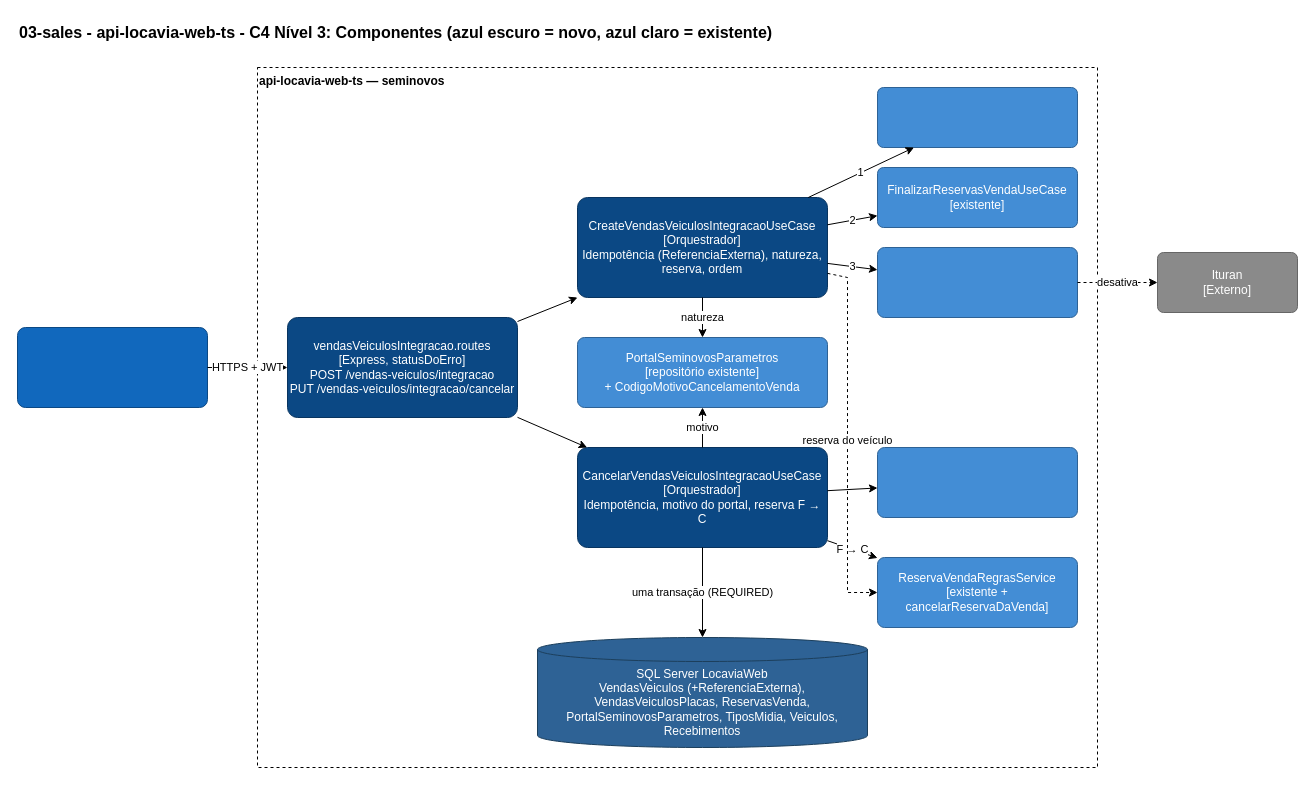
This 1315x785 diagram has some shape labels left out. The shapes that lost their labels are listed below. From the top down, each one's centre as x and y in pixels, then its label:
At point 977,117: "CreateVendasVeiculosUseCase [existente]".
At point 977,282: "AprovarVendasVeiculosUseCase [existente, último passo] veículo → 9, Ituran".
At point 112,367: "api-locaviaweb-car-inventory [Receiver de vendas]".
At point 977,482: "CancelarVendasVeiculosUseCase [existente] NF-e, quitados, veículo → 8/13".
